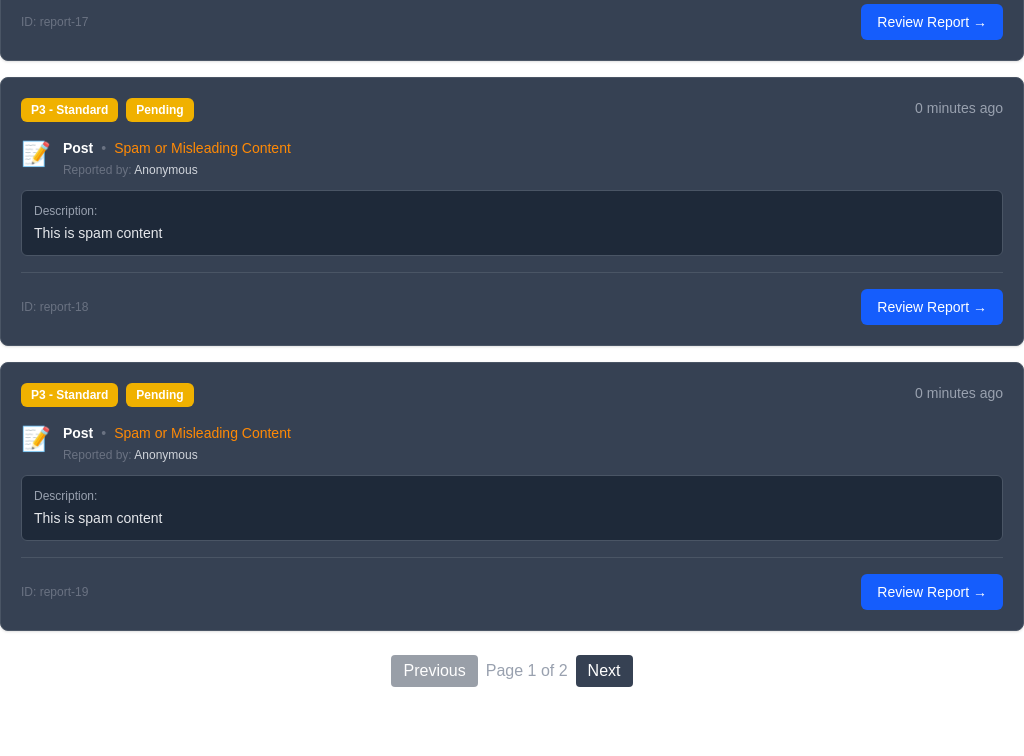
Test: ModerationQueue › Pagination › should reset to page 1 when filters change
The width and height of the screenshot is (1024, 756).
(page scrolled)
Expected: the text "Page 1 of 2" is shown, [486,659,568,683]
# Go to page 2
Click the button "Next" at (604,671), box [576,655,632,687]
(page scrolled)
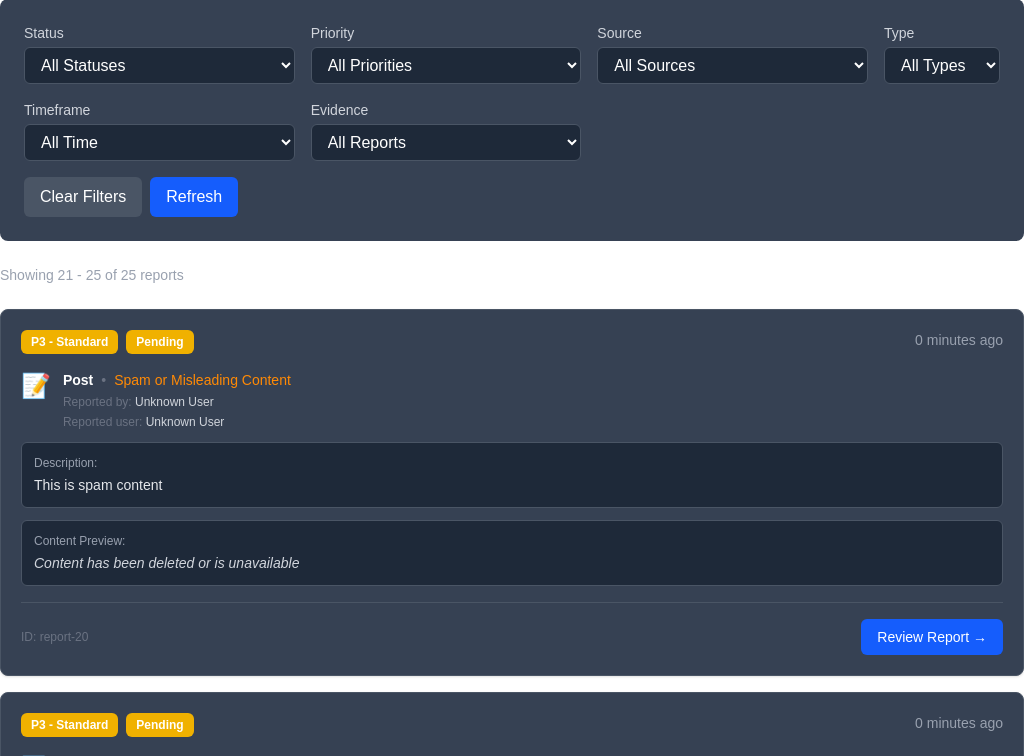
# Change filter
Select "Pending" in the dropdown labelled "Status" at (159,66), box [24,47,295,84]
(page scrolled)
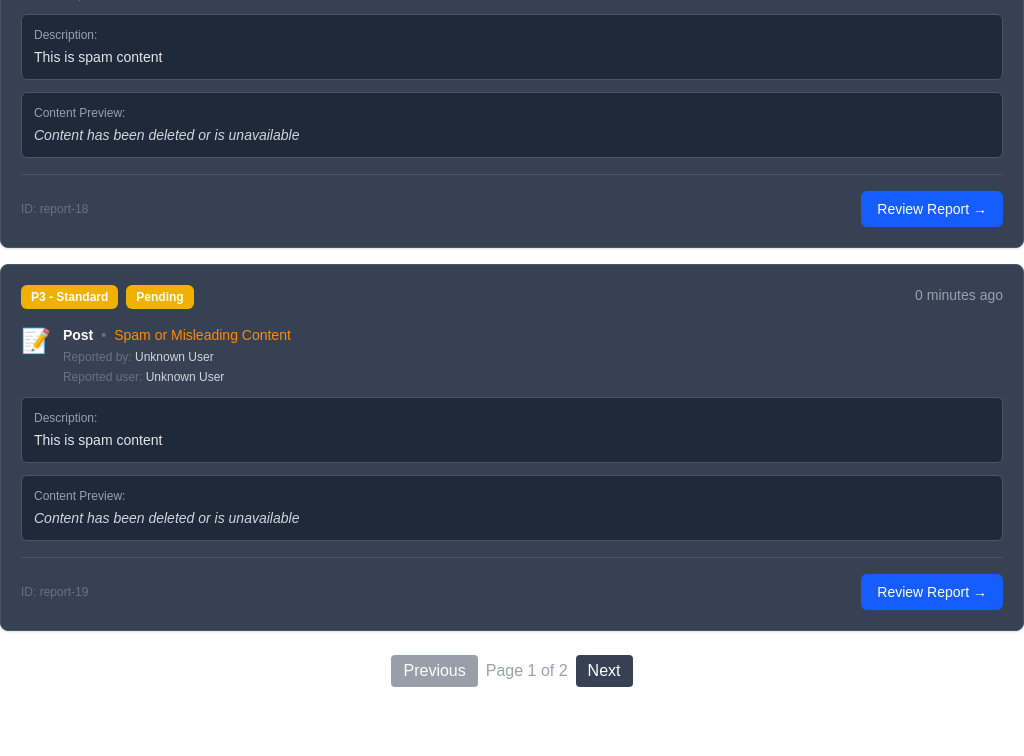
Expected: the text "Page 1 of 2" is shown, [486,659,568,683]
